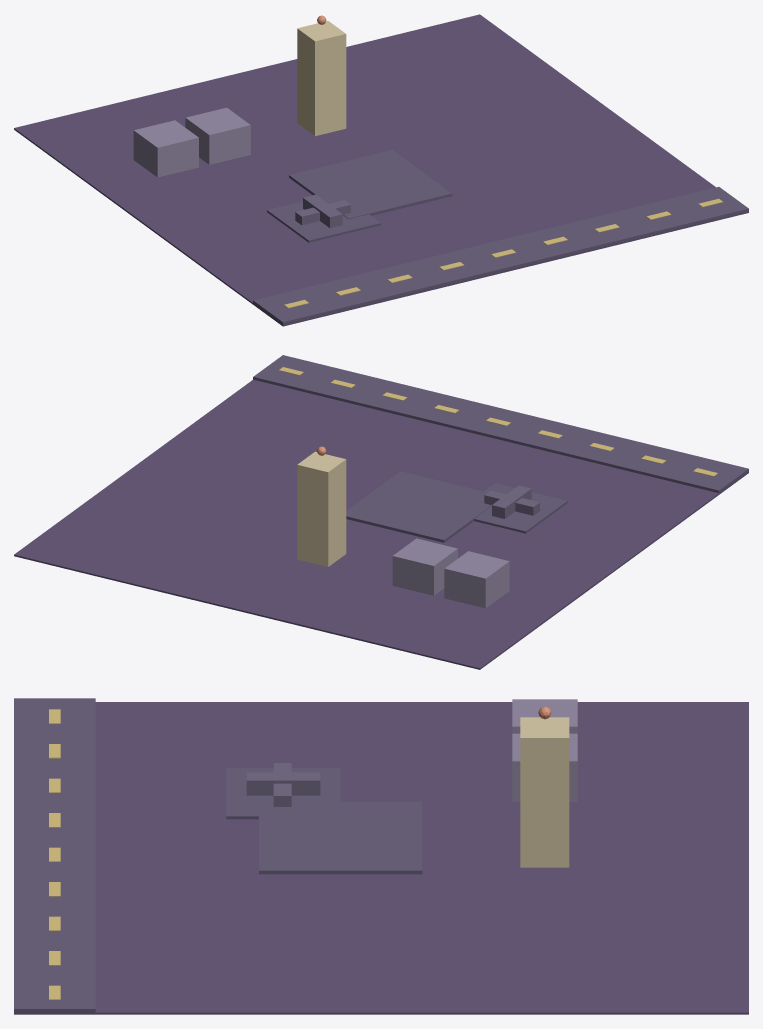
The model's file is stage_05.glb.
3 views of the same model, one above another, from view 1: azimuth 30°, elevation 25°; view 2: azimuth 150°, elevation 25°; view 3: azimuth 270°, elevation 25° (orthographic). The views are drawn at different scales.
Visible parts, largest first — view 1: geometry_0; view 2: geometry_0; view 3: geometry_0.
Part boxes in pixels (<box>): geometry_0: <box>14,14,748,326</box>; geometry_0: <box>14,355,748,669</box>; geometry_0: <box>14,698,748,1014</box>.
Size of the model in its own units: 9 by 2.06 by 9.
